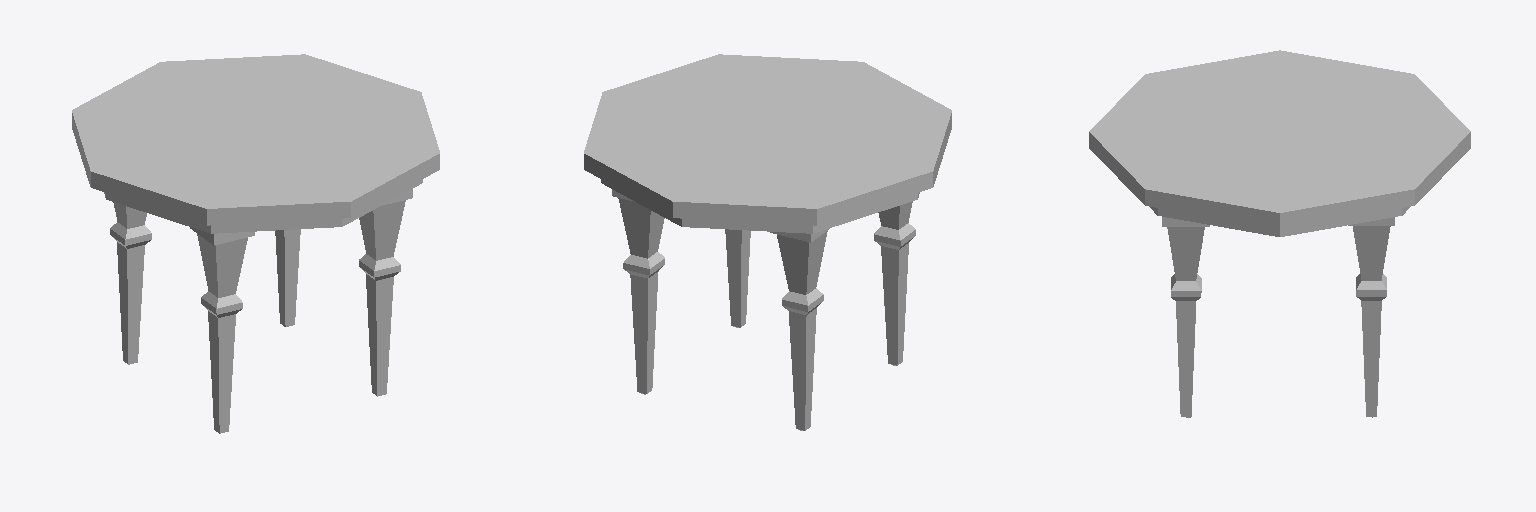
Rendered from Mesa.obj.
3 renders of one model, left to right at view 1: azimuth 30°, elevation 25°; view 2: azimuth 150°, elevation 25°; view 3: azimuth 270°, elevation 25°, orthographic.
Visible parts, largest first — view 1: Cubo.003; view 2: Cubo.003; view 3: Cubo.003.
Part boxes in pixels (x1,y1,x2,y2): Cubo.003: (72,54,439,433); Cubo.003: (584,54,951,430); Cubo.003: (1089,50,1470,417).
Size of the model in its own units: 4.56 by 3.29 by 4.56.